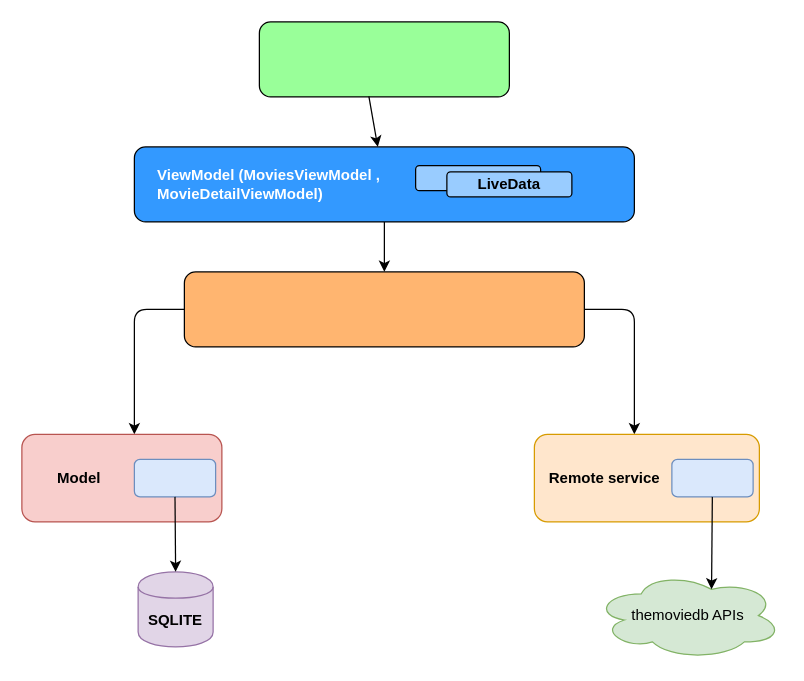
The diagram is 804 pixels wide and 681 high, and some of its shapes have lost their labels. The shapes that lost their labels are listed below. From the top down, each one's centre as x and y in pixels, then its label:
(x=383, y=59): View MoviesActivity, MovieDetailsActivity
(x=383, y=309): Repository MovieDetailsRepository. MoviesRepository
(x=174, y=477): Room
(x=712, y=477): Retrofit
